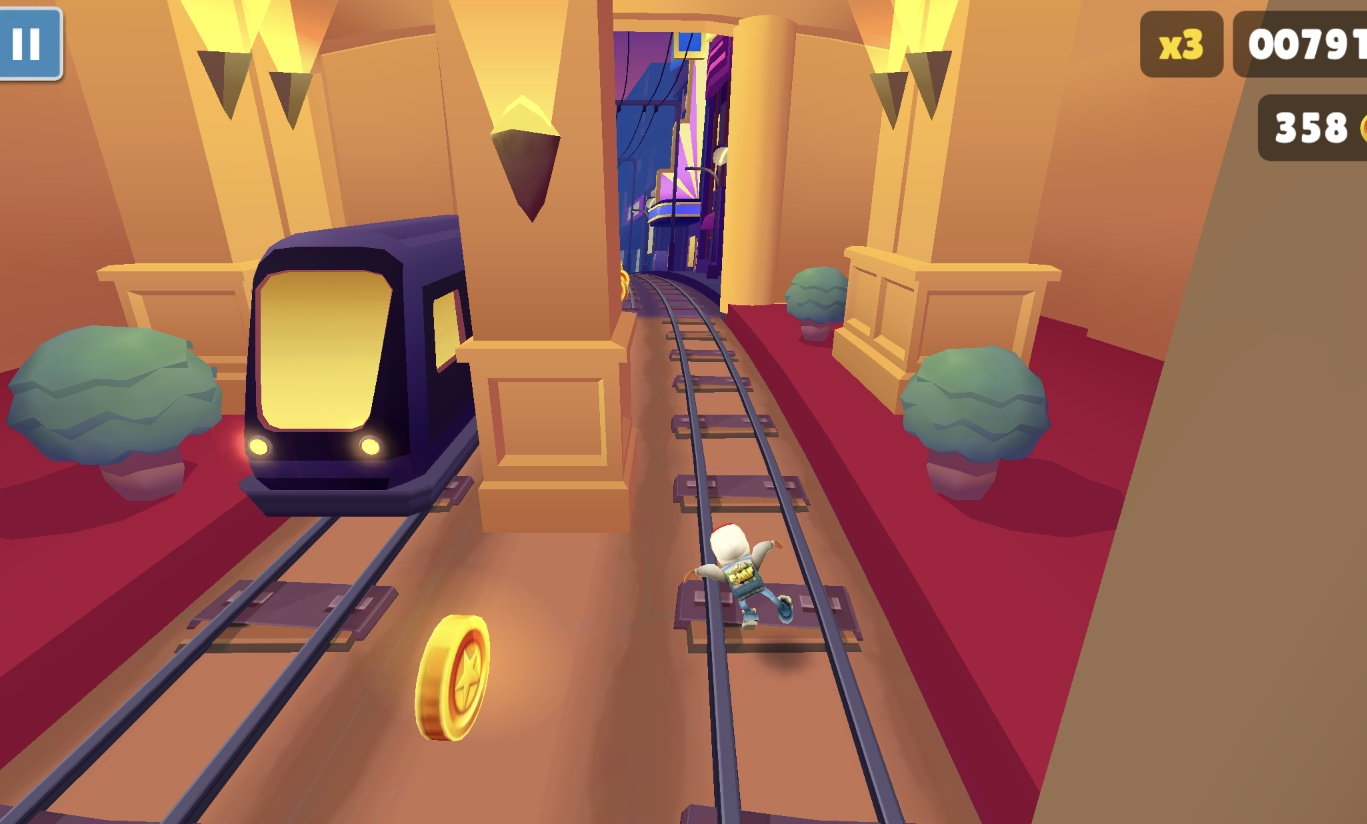pillar: (451, 0, 640, 535)
train: (242, 214, 469, 522)
